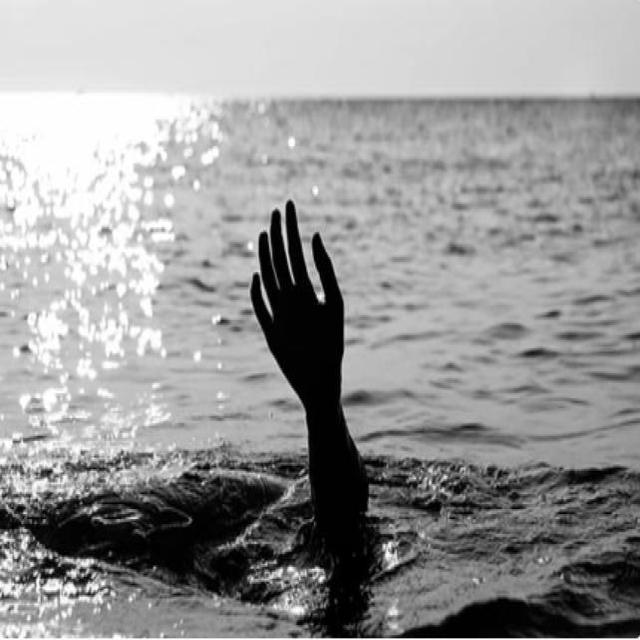Out of Water: (248, 194, 376, 517)
